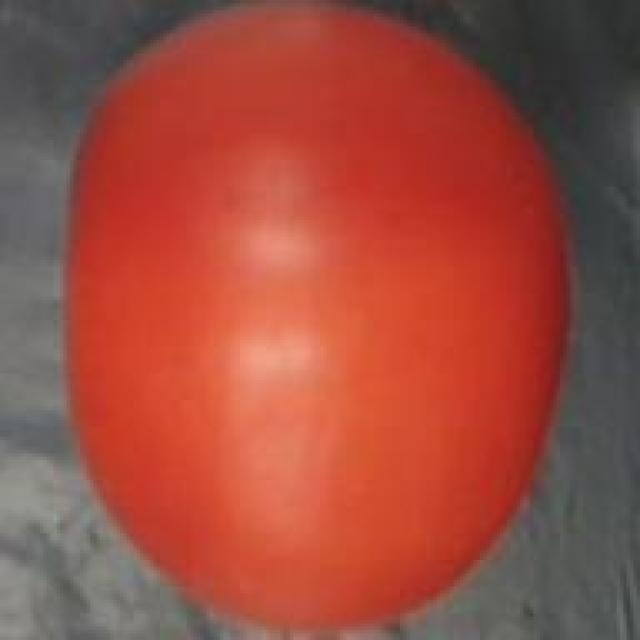ripe tomato: (54, 0, 584, 640)
